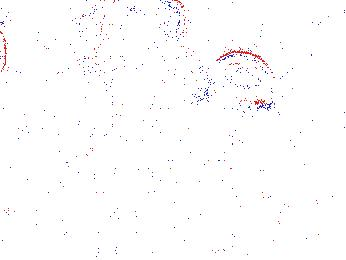moon jellyfish: (107, 47, 238, 174), (100, 1, 186, 73), (271, 50, 346, 113), (70, 2, 124, 79), (204, 51, 277, 107)
